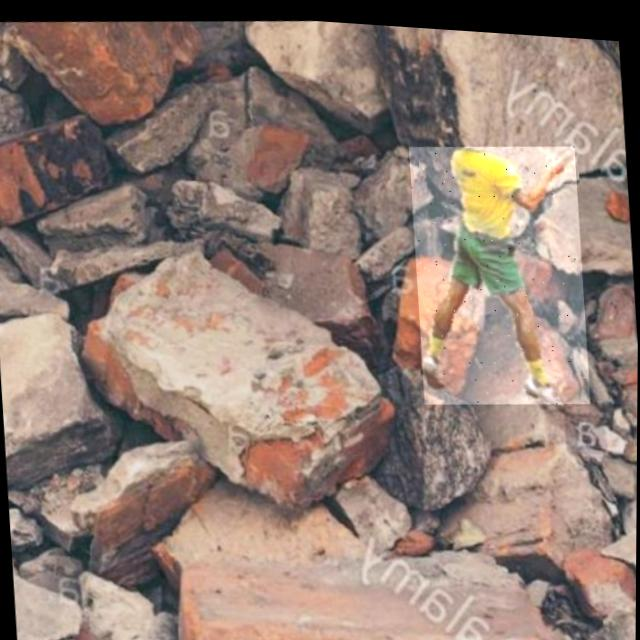Person in Rubble: (407, 129, 592, 407)
